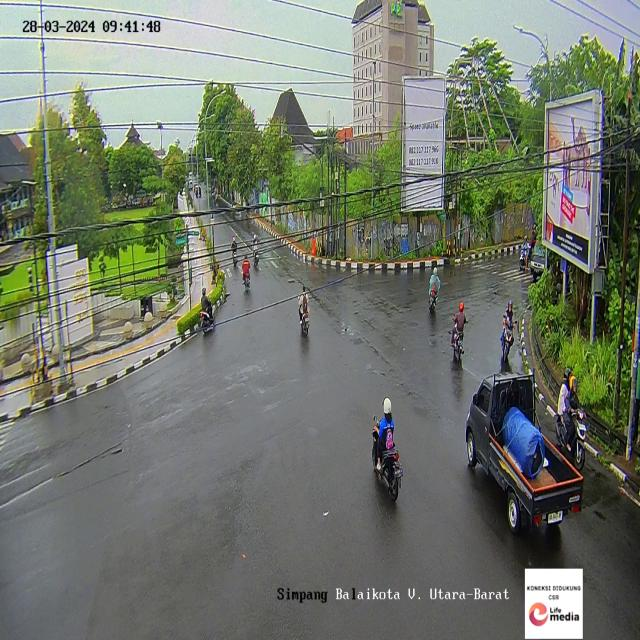motorcycle: (372, 398, 401, 503), (553, 372, 584, 468), (451, 298, 468, 368), (498, 298, 512, 359), (296, 283, 311, 335), (199, 289, 214, 337), (242, 250, 254, 297), (430, 264, 441, 308), (231, 236, 239, 268), (252, 237, 259, 269)
truck: (468, 374, 582, 533), (532, 231, 555, 280)
